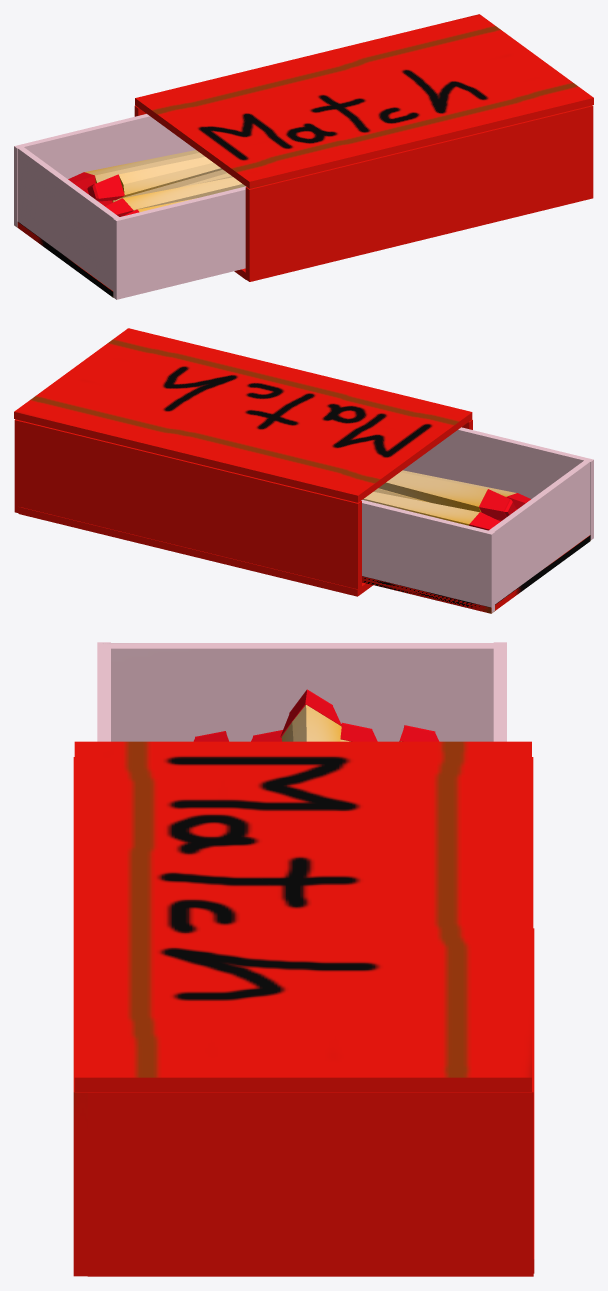
File: match.fbx
The picture shows the model from 3 angles, top to bottom: view 1: azimuth 30°, elevation 25°; view 2: azimuth 150°, elevation 25°; view 3: azimuth 270°, elevation 25°; orthographic projection. The views are drawn at different scales.
Visible parts, largest first — view 1: Cube.006; view 2: Cube.006; view 3: Cube.006.
Boxes of the visible parts, x1=… form: Cube.006: x1=14, y1=14, x2=593, y2=299; Cube.006: x1=14, y1=328, x2=593, y2=613; Cube.006: x1=73, y1=642, x2=534, y2=1276.
Bounding box in the file's own units: 4867 × 992 × 2061.
1 material, 1 textured.
